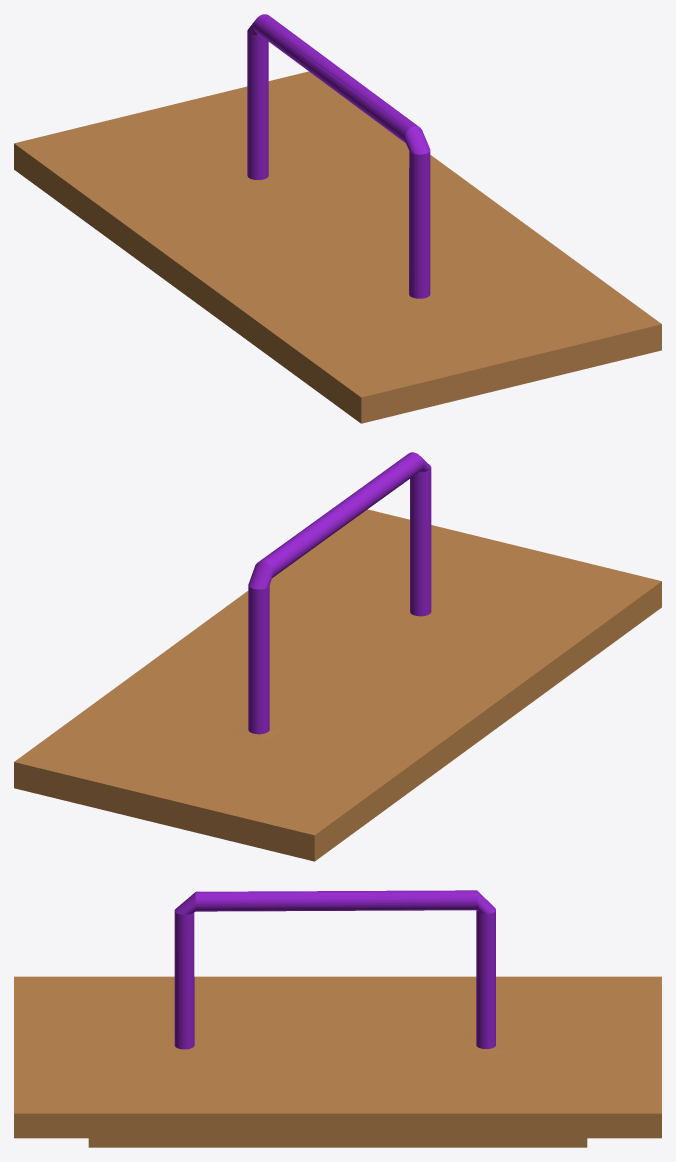
Rendered from dropper_box_top.dae.
The picture shows the model from 3 angles, top to bottom: view 1: azimuth 30°, elevation 25°; view 2: azimuth 150°, elevation 25°; view 3: azimuth 270°, elevation 25°; orthographic projection. The views are drawn at different scales.
Visible parts, largest first — view 1: Cube_001; view 2: Cube_001; view 3: Cube_001.
Part boxes in pixels (box(x1,y1,x2,y2)): Cube_001: box(14, 14, 661, 423); Cube_001: box(14, 452, 661, 861); Cube_001: box(14, 890, 661, 1147).
Bounding box in the file's own units: 0.3261 × 0.6523 × 0.2259.
